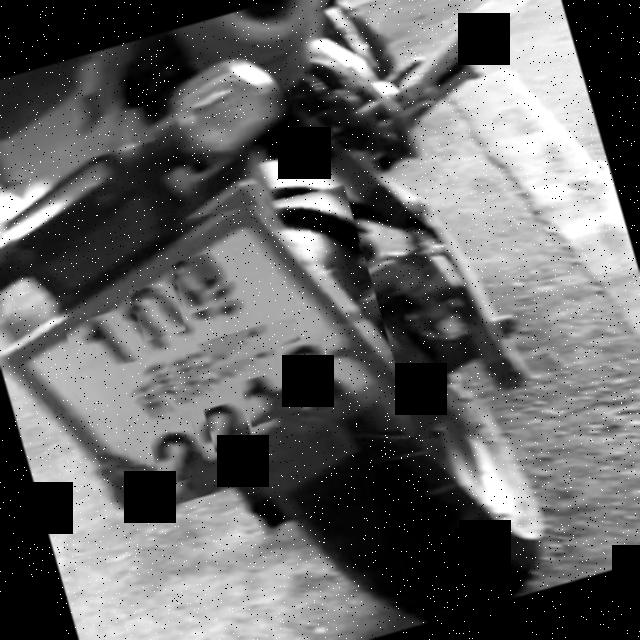letters: (170, 246, 247, 316), (63, 308, 134, 378), (238, 366, 308, 427), (146, 420, 208, 486), (128, 278, 186, 342), (280, 338, 334, 396), (203, 399, 253, 452)
license-plate: (14, 200, 397, 511)
province: (107, 314, 305, 402)
